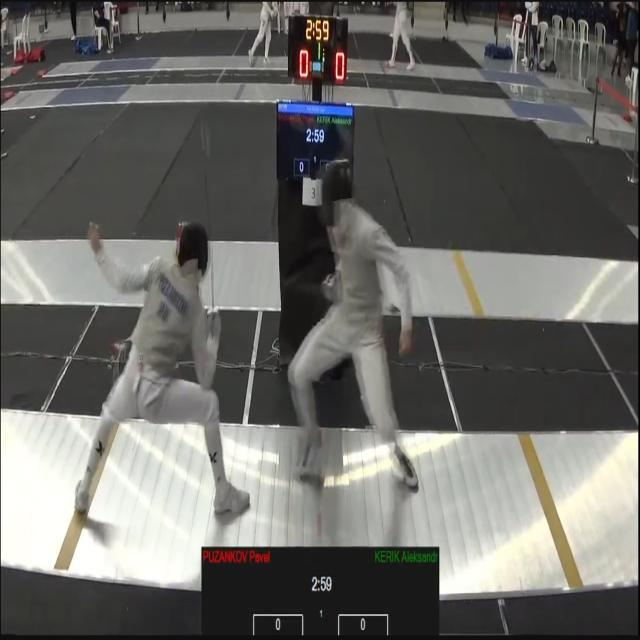fencer: (70, 184, 250, 541), (274, 163, 432, 499)
overlayLeft: (202, 548, 310, 597)
overlayRight: (333, 548, 439, 598)
scoreLeft: (271, 618, 299, 638)
scoreRight: (341, 618, 371, 638)
